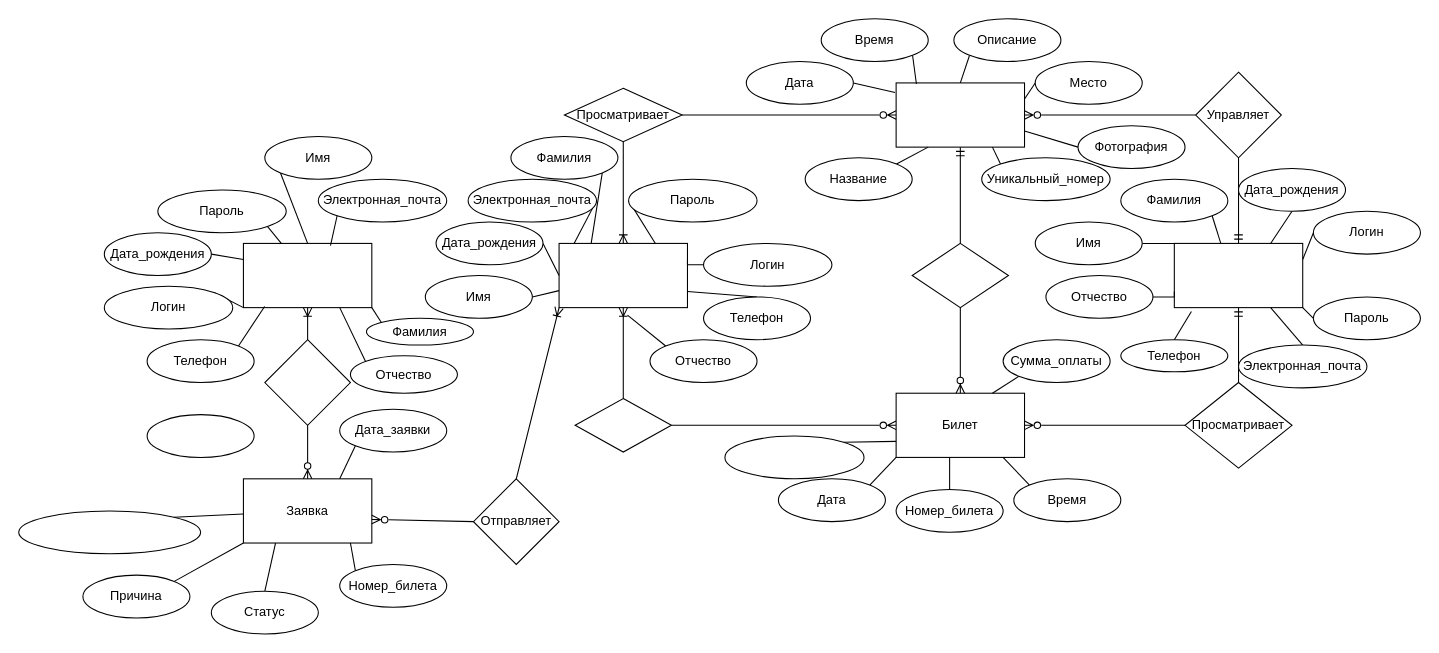
Image size: 1439x653. Some labels were removed from this diagram. Here are the shapes that lost their labels. From the top down, the box of each, then its label:
(895, 82, 1025, 147): Мероприятие
(242, 242, 372, 308): Модератор
(558, 242, 687, 308): Клиент
(911, 242, 1008, 308): Содержит
(1173, 242, 1303, 308): Администратор
(264, 339, 350, 425): Проверяет
(146, 414, 254, 457): Номер_заявки
(574, 398, 671, 452): Приобретает
(724, 435, 864, 479): Номер_мероприятия
(18, 510, 201, 554): Уникальный_код_клиента
